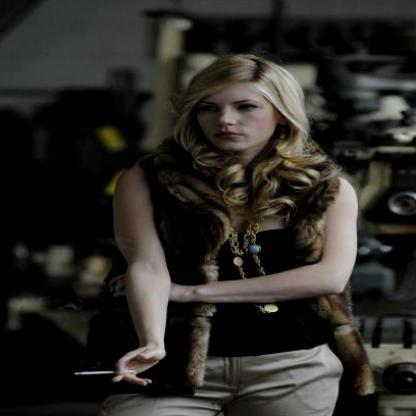cigarette: (72, 369, 122, 379)
person: (113, 51, 366, 415)
